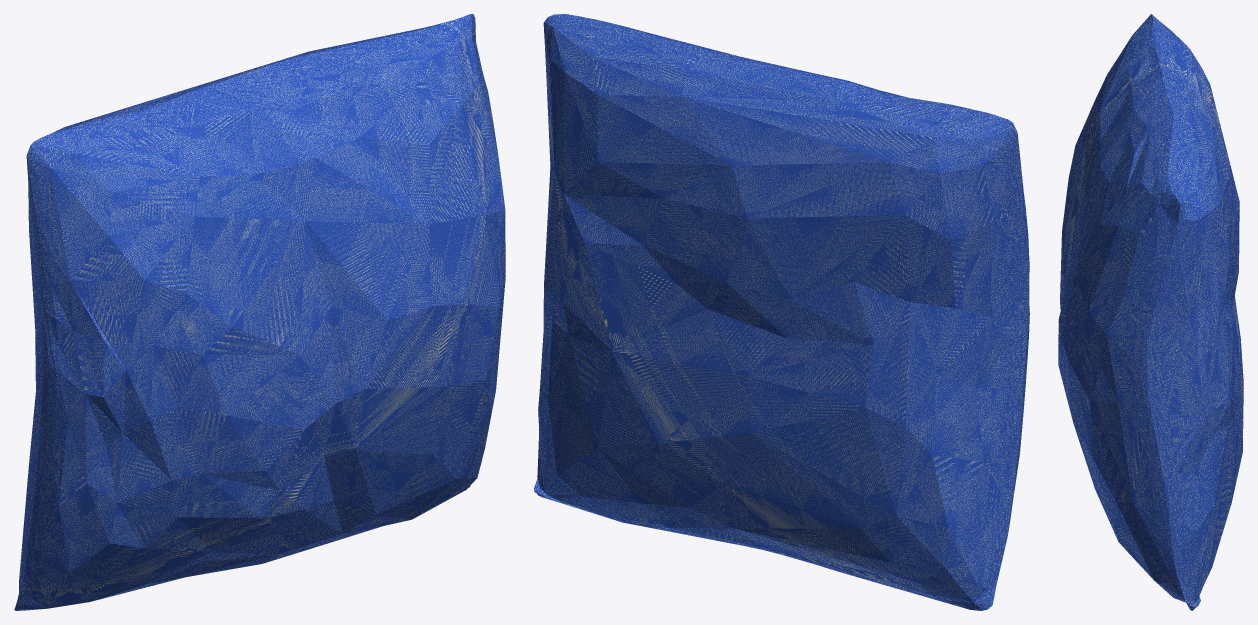
3 renders of one model, left to right at view 1: azimuth 30°, elevation 25°; view 2: azimuth 150°, elevation 25°; view 3: azimuth 270°, elevation 25°, orthographic. The views are drawn at different scales.
Parts seen in each view (by area): view 1: sofa pillow; view 2: sofa pillow; view 3: sofa pillow.
Boxes of the visible parts, x1,y1,x2,y2 form: sofa pillow: (14, 14, 505, 610); sofa pillow: (534, 14, 1029, 610); sofa pillow: (1058, 14, 1243, 610).
Bounding box in the file's own units: 495 × 496 × 197.
